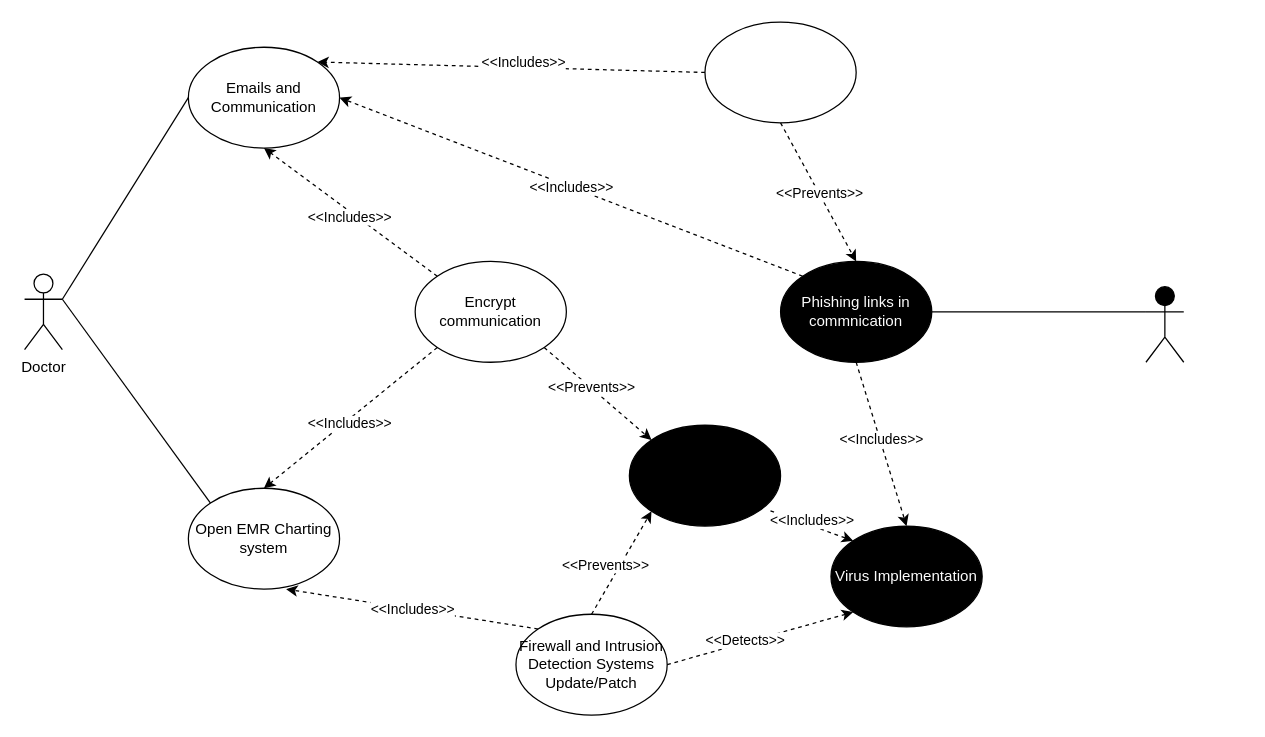
Image size: 1265x737. Some labels were removed from this diagram. The centre of each missing label's shape, as x and y in pixels:
Man in the Middle listening: [704,475]
Scott Information Seller: [1164,323]
Updated policies and Education: [780,72]
